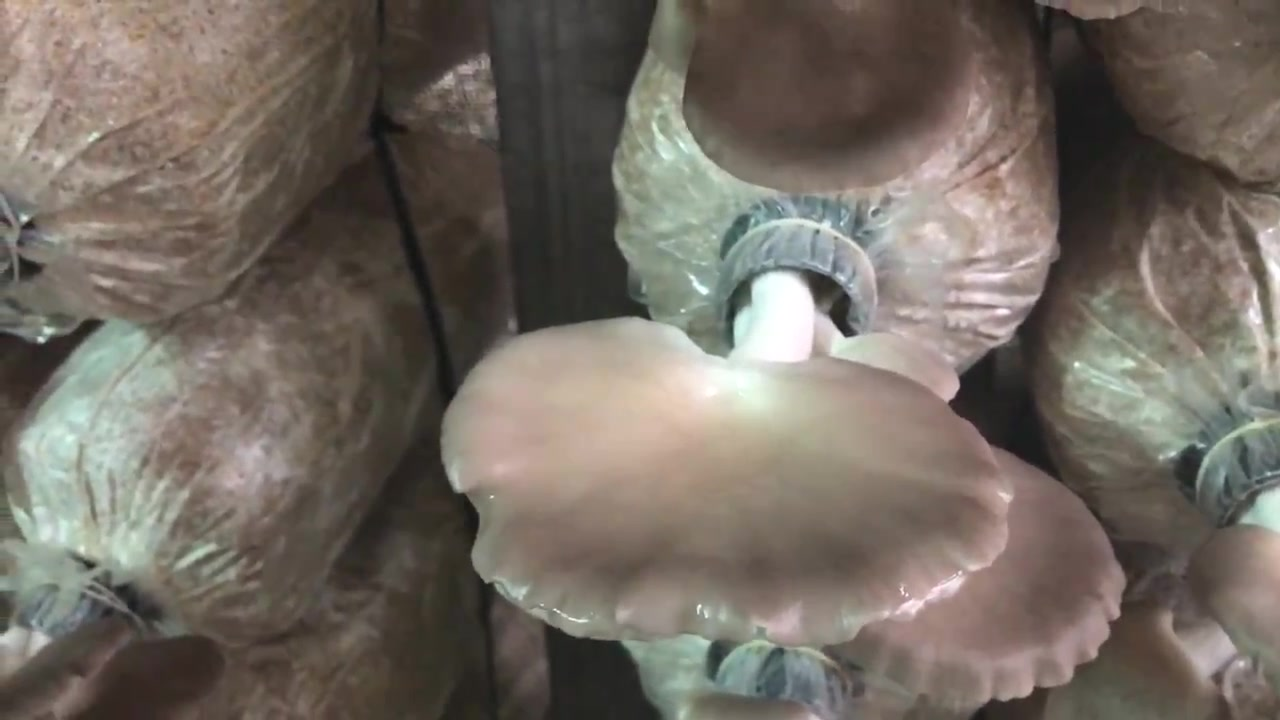nam: (443, 214, 1005, 645), (838, 446, 1127, 707), (686, 5, 963, 189), (1195, 493, 1275, 670)
